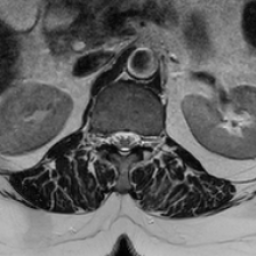CCS_normal: (121, 125, 129, 162)
LFS_normal: (138, 128, 149, 155)
LLS_normal: (129, 125, 138, 153)
RFS_normal: (99, 125, 110, 153)
RLS_normal: (110, 125, 121, 153)
